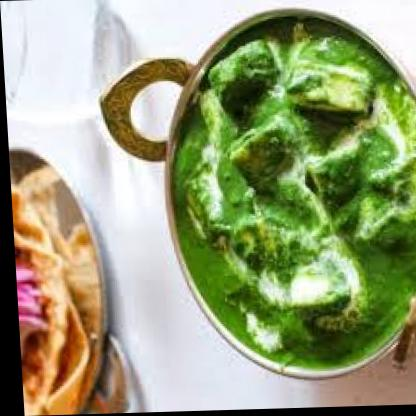palak_paneer: (162, 20, 416, 374)
